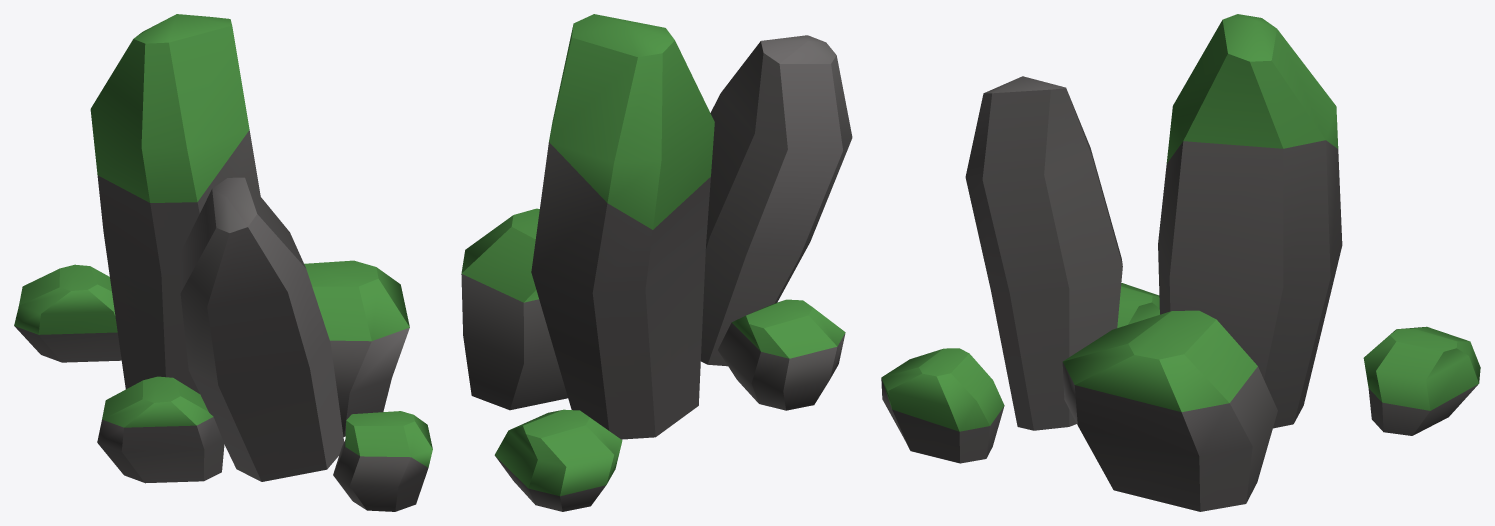
Rendered from Rocks01.fbx.
3 views of the same model, side by side, from view 1: azimuth 30°, elevation 25°; view 2: azimuth 150°, elevation 25°; view 3: azimuth 270°, elevation 25° (orthographic). The views are drawn at different scales.
Parts seen in each view (by area): view 1: pCylinder10; view 2: pCylinder10; view 3: pCylinder10.
Part boxes in pixels (<box>): pCylinder10: <box>14,14,432,511</box>; pCylinder10: <box>461,14,852,511</box>; pCylinder10: <box>881,14,1480,511</box>.
Size of the model in its own units: 356 by 413 by 550.
